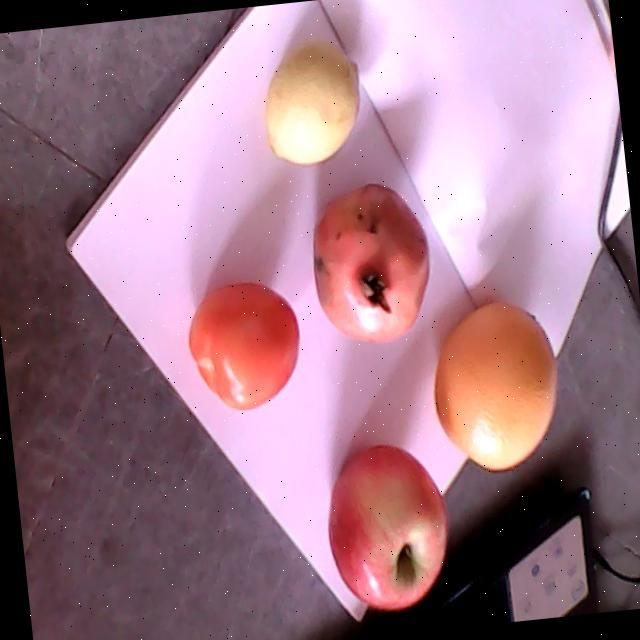apple: (327, 444, 446, 608)
lemon: (264, 42, 357, 164)
orange: (433, 301, 555, 470)
pomegranate: (312, 182, 427, 343)
tomato: (189, 282, 298, 408)
